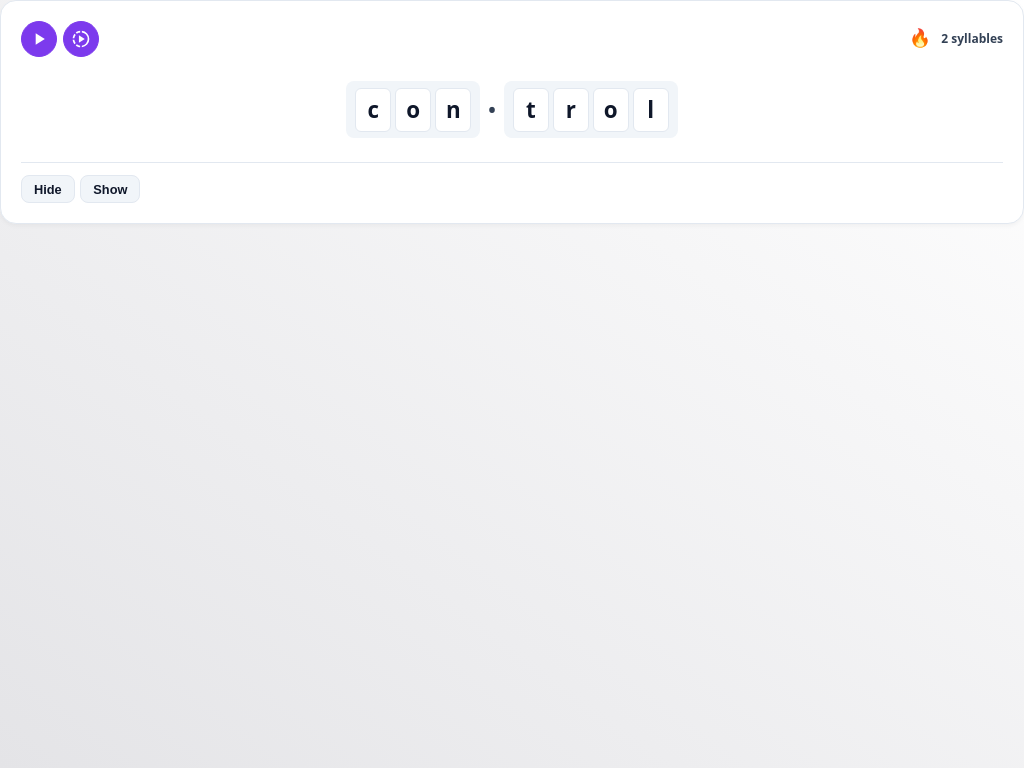
Test: WordCard coaching › closes the tip dialog and returns focus to the flame
Click the button named "tricky word" at (920, 39), box left=907, top=28, right=933, bottom=50
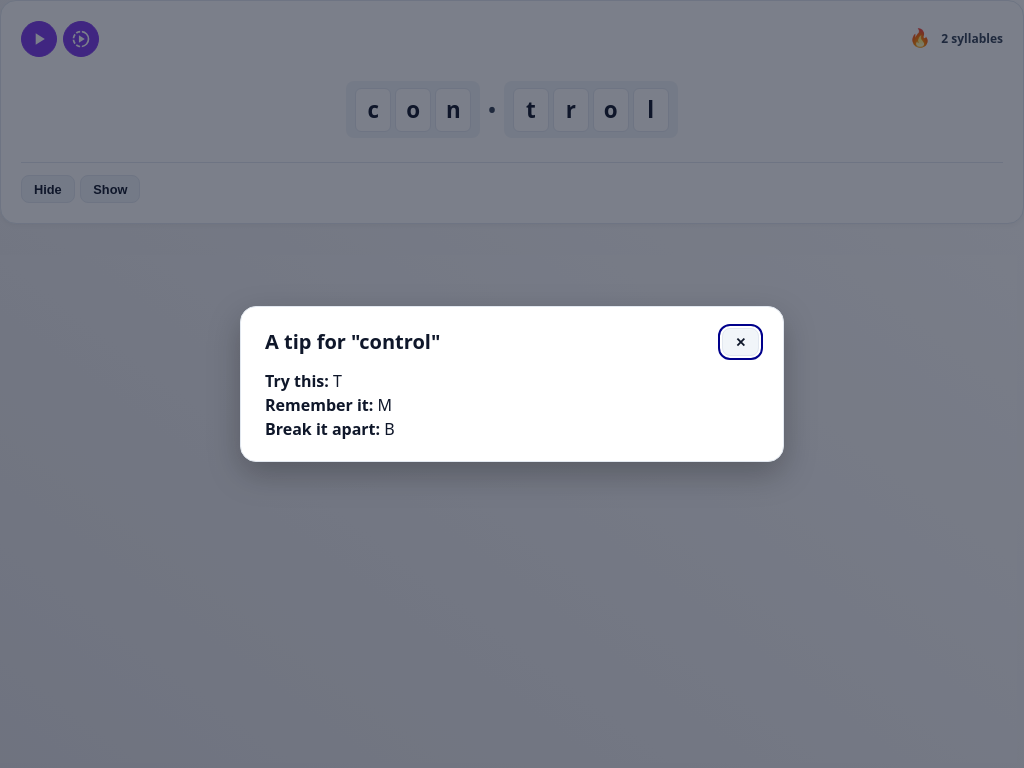
Now the text "Try this:" is shown, box left=265, top=370, right=329, bottom=392
Press Escape
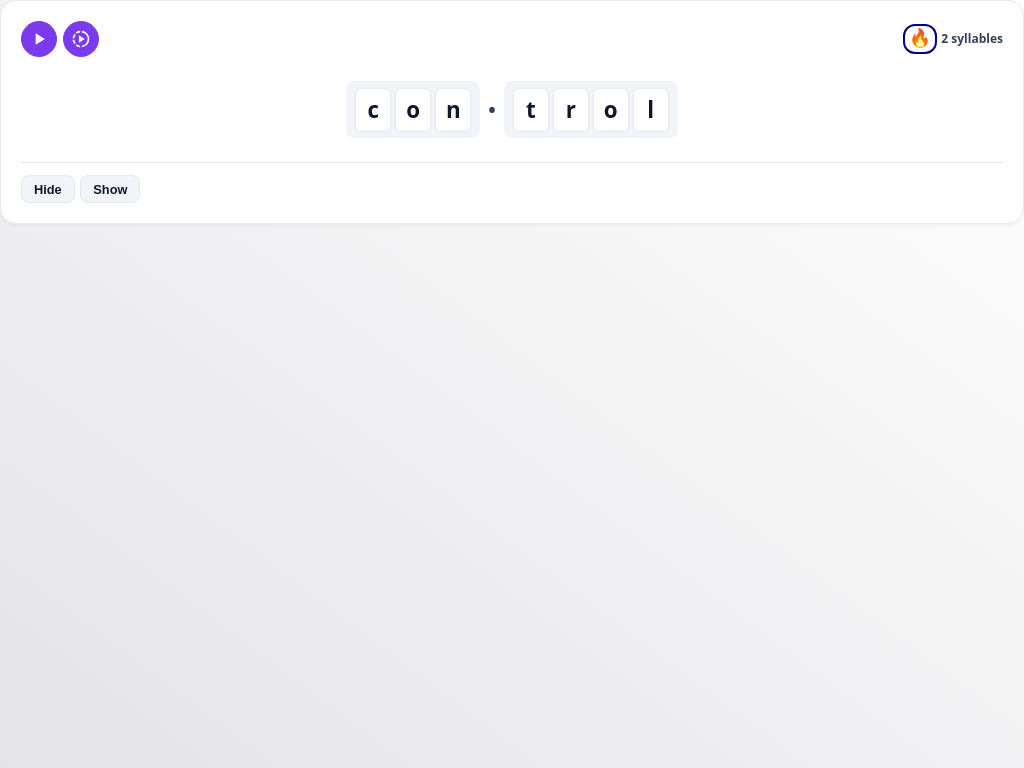
Now the dialog is gone
